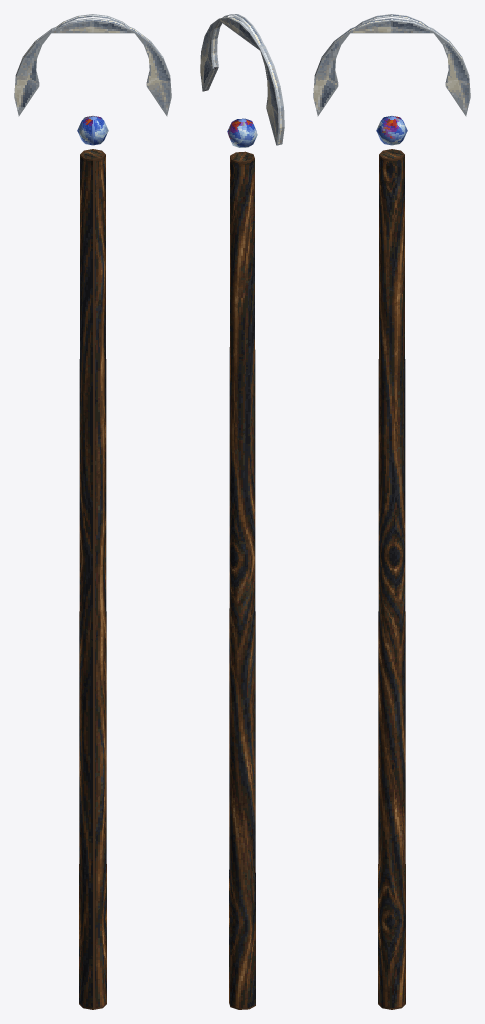
File: crescent_staff.glb
3 renders of one model, left to right at view 1: azimuth 90°, elevation 25°; view 2: azimuth 210°, elevation 25°; view 3: azimuth 270°, elevation 25°, orthographic.
Visible parts, largest first — view 1: crescent_staff; view 2: crescent_staff; view 3: crescent_staff.
Part boxes in pixels (x1,y1,x2,y2): crescent_staff: (14, 14, 171, 1009); crescent_staff: (200, 14, 284, 1009); crescent_staff: (313, 14, 470, 1009).
Bounding box in the file's own units: 0.036 × 1.25 × 0.1795.
1 material, 1 textured.
